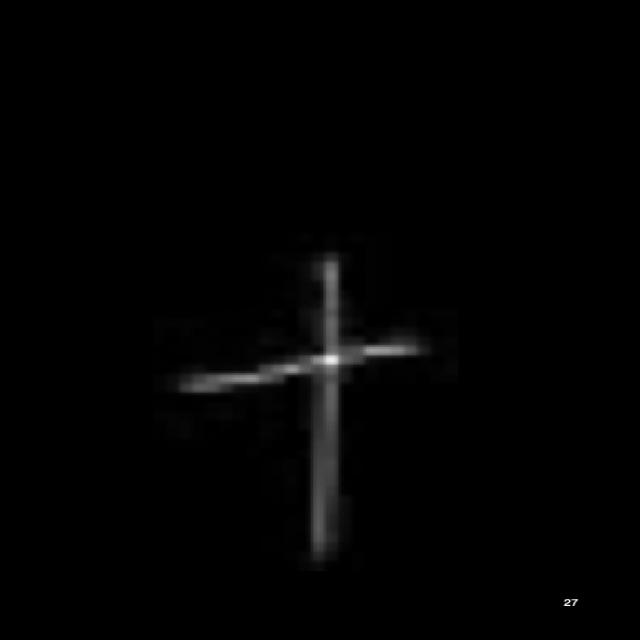10 -ten-: (172, 252, 424, 564)
